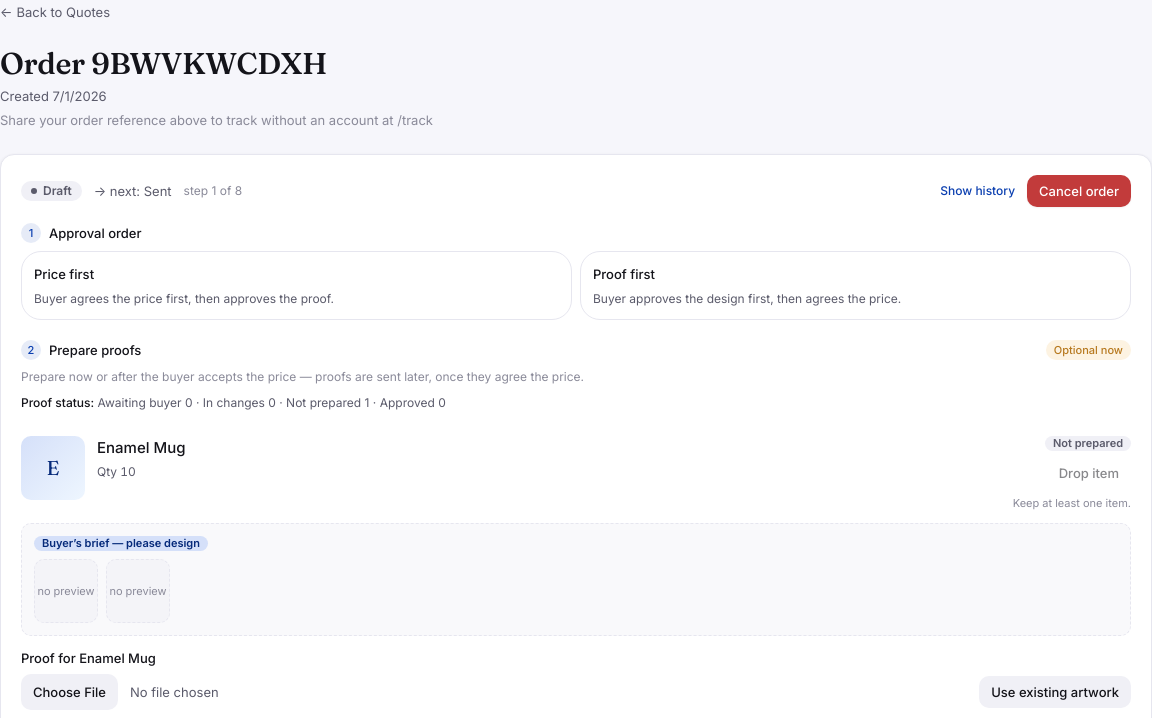
offers the buyer finished-look references as selectable proof artwork
Note: The reference photos are now artwork options, so the picker is offered.
Click the button "Use existing artwork" at (1055, 692), box top-left (979, 676), bottom-right (1131, 708)
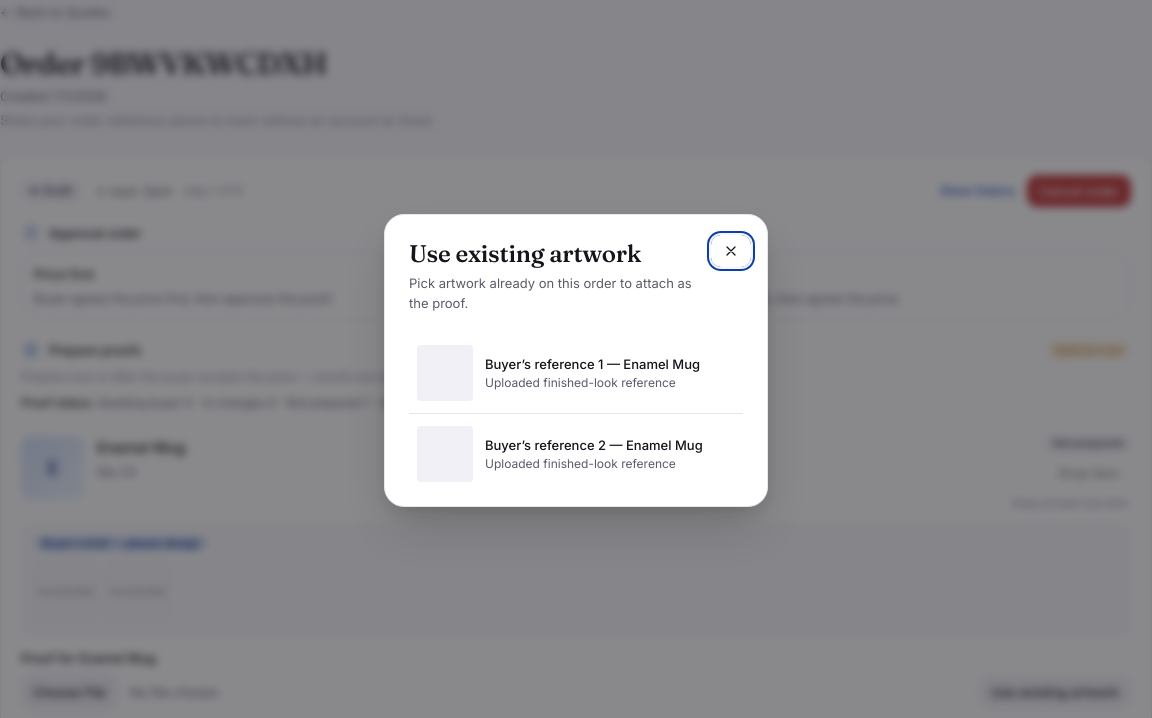
Result: the text "Buyer’s reference 1 — Enamel Mug" is shown at top-left (485, 354), bottom-right (700, 374)
Result: the text "Buyer’s reference 2 — Enamel Mug" is shown at top-left (485, 435), bottom-right (703, 455)
